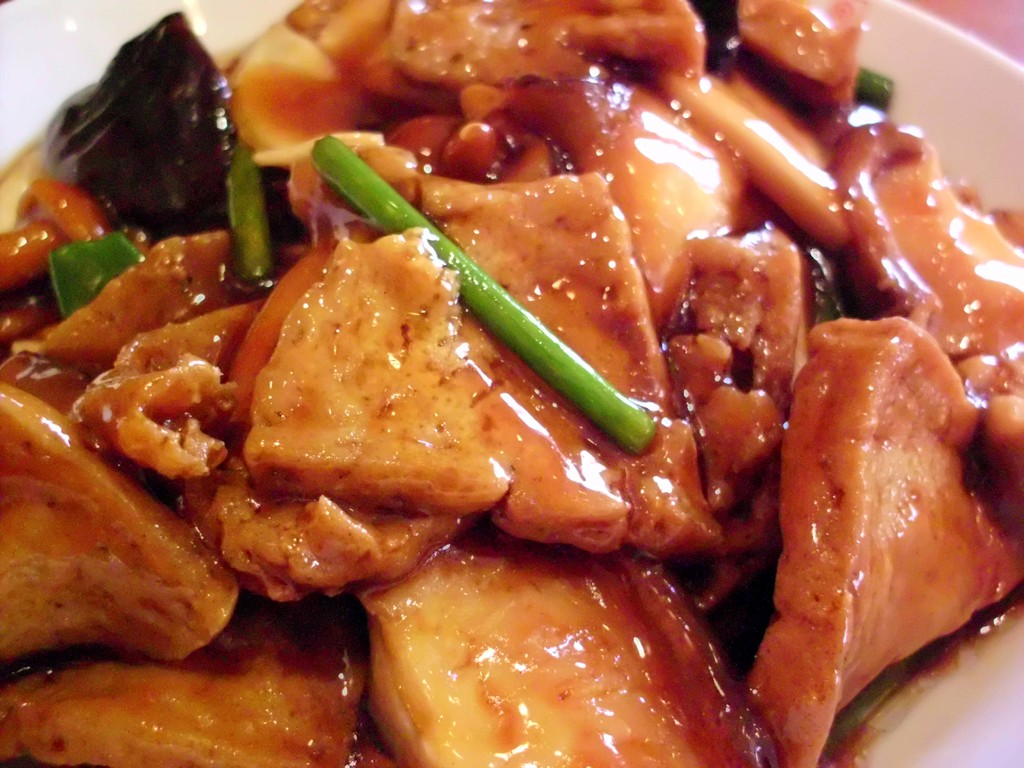face: (196, 362, 476, 608)
